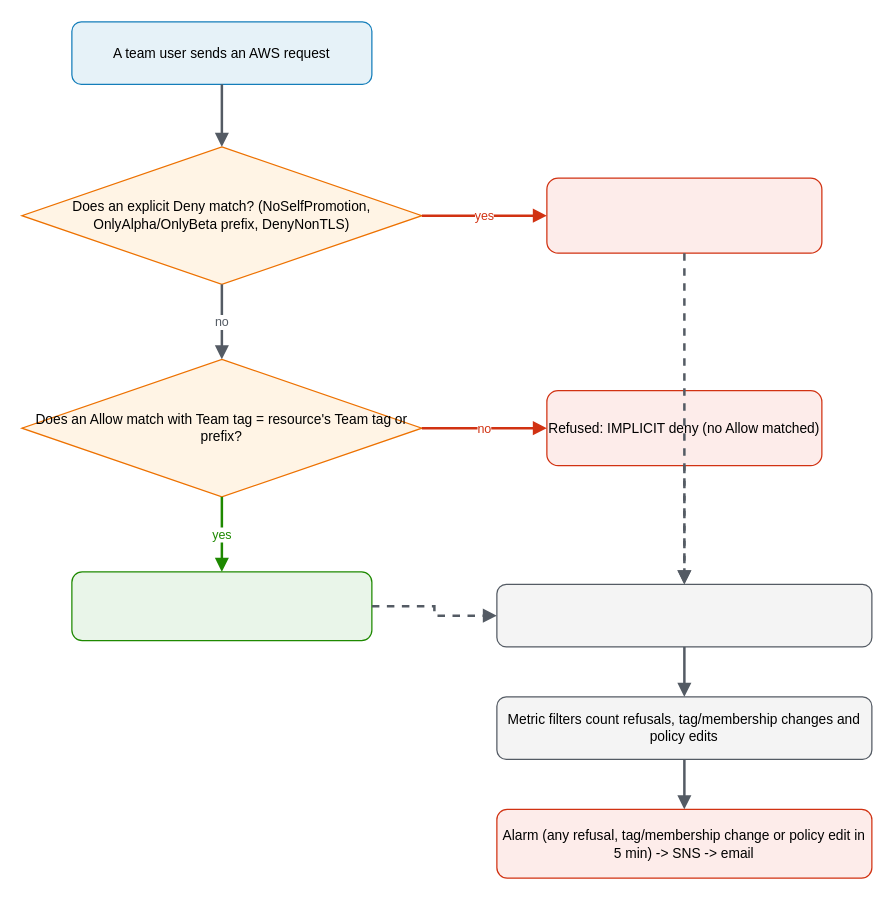
The diagram is 894 pixels wide and 900 high, and some of its shapes have lost their labels. Here are the shapes that lost their labels. From the top down, the centre of each, then its label:
the point at 684,215: Refused: EXPLICIT deny
the point at 221,606: Allowed: own team's data only
the point at 684,615: CloudTrail records every request (allowed and refused)
